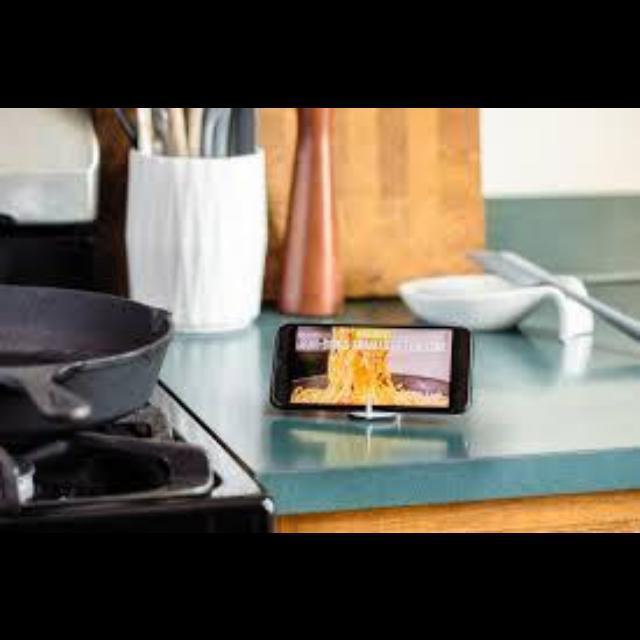PhoneUse: (271, 322, 473, 414)
